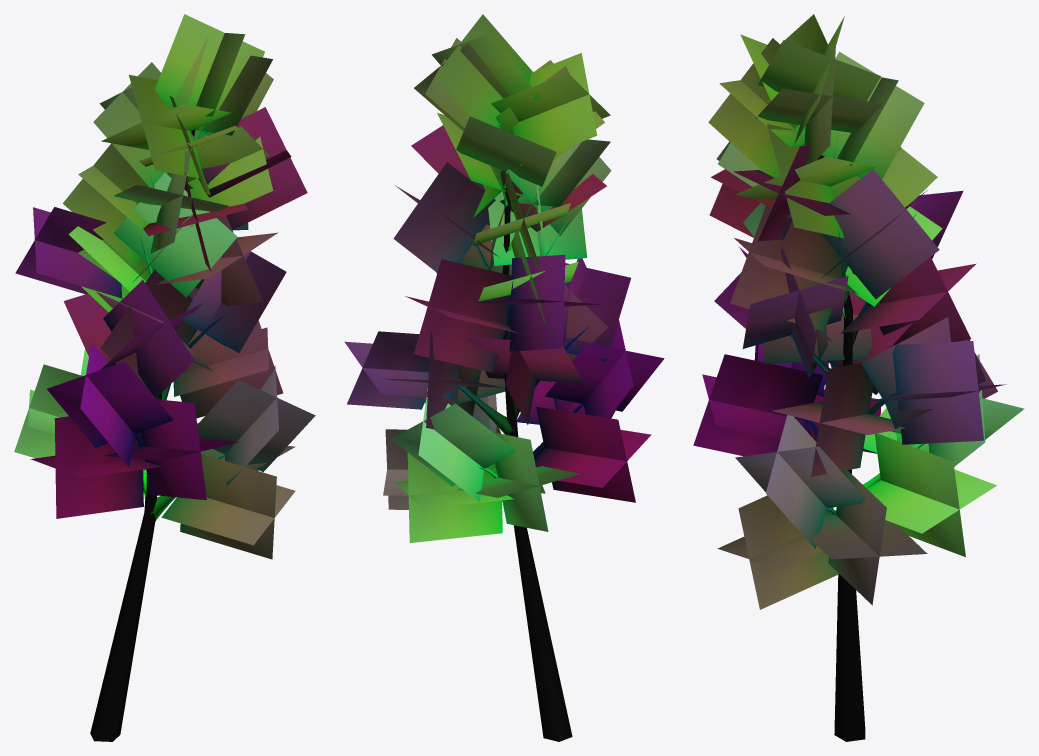
Rendered from URP_P5_Tree_5_LOD_3.fbx.
3 renders of one model, left to right at view 1: azimuth 30°, elevation 25°; view 2: azimuth 150°, elevation 25°; view 3: azimuth 270°, elevation 25°, orthographic. The views are drawn at different scales.
Visible parts, largest first — view 1: Tree_5_LOD_3; view 2: Tree_5_LOD_3; view 3: Tree_5_LOD_3.
Part boxes in pixels (x1=…): Tree_5_LOD_3: x1=14, y1=14, x2=315, y2=741; Tree_5_LOD_3: x1=344, y1=14, x2=664, y2=741; Tree_5_LOD_3: x1=693, y1=14, x2=1024, y2=741.
Size of the model in its own units: 245 by 660 by 261.
